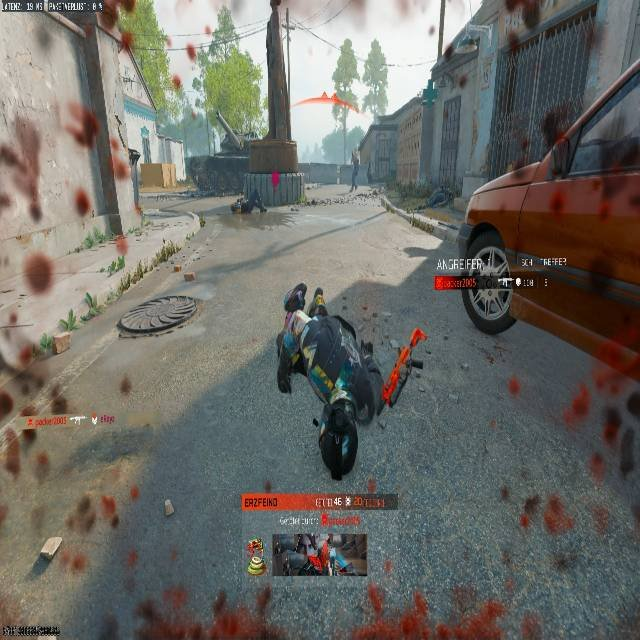head: (283, 283, 313, 321)
player: (275, 282, 424, 481)
